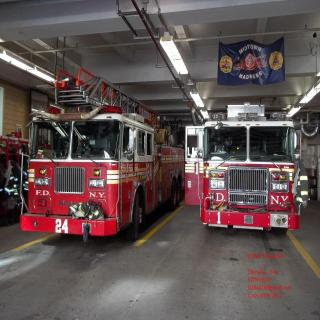Fire_truck: (19, 68, 185, 242), (185, 102, 308, 232)
